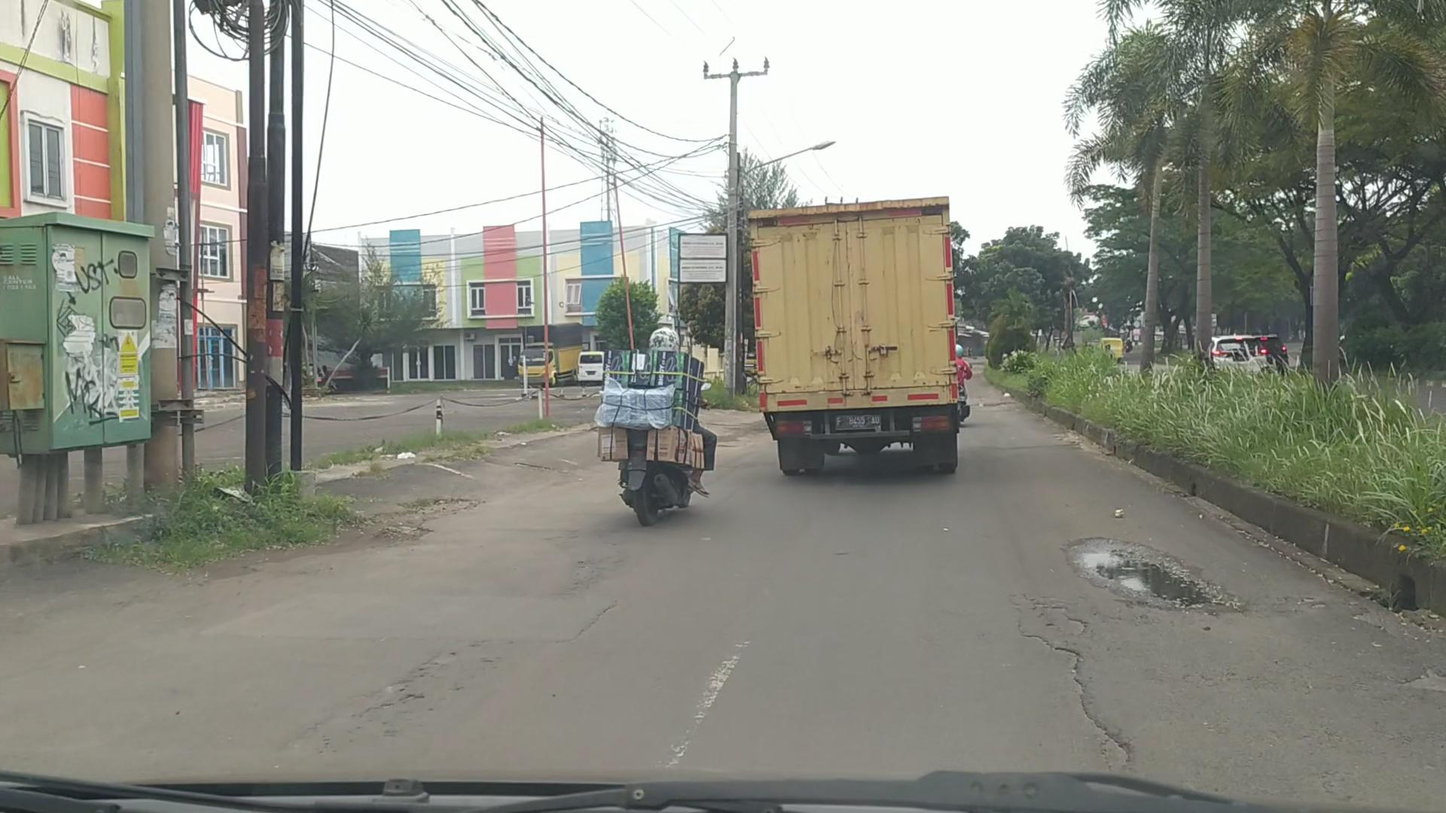pothole: (1082, 540, 1230, 611)
